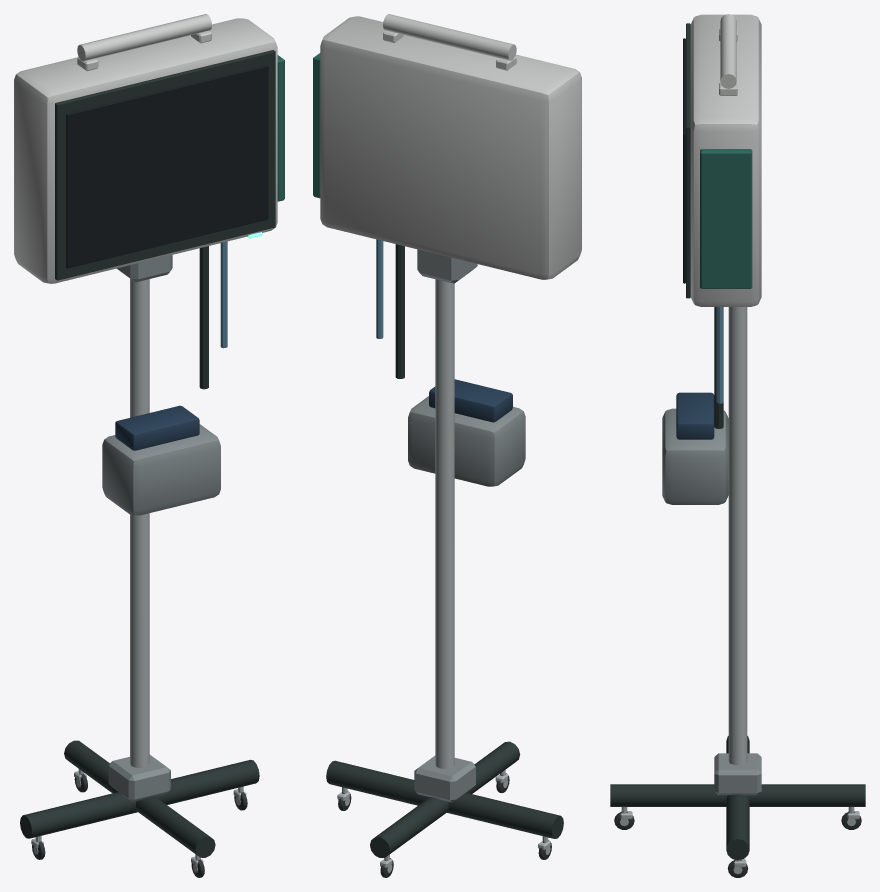
The model's file is patient-monitor.glb.
3 renders of one model, left to right at view 1: azimuth 30°, elevation 25°; view 2: azimuth 150°, elevation 25°; view 3: azimuth 270°, elevation 25°, orthographic. The views are drawn at different scales.
Parts seen in each view (by area): view 1: patient-monitor; view 2: patient-monitor; view 3: patient-monitor.
Boxes of the visible parts, left/top/right/bottom form: patient-monitor: left=14, top=14, right=284, bottom=877; patient-monitor: left=313, top=14, right=581, bottom=877; patient-monitor: left=610, top=14, right=865, bottom=877.
Size of the model in its own units: 0.58 by 1.83 by 0.54.
